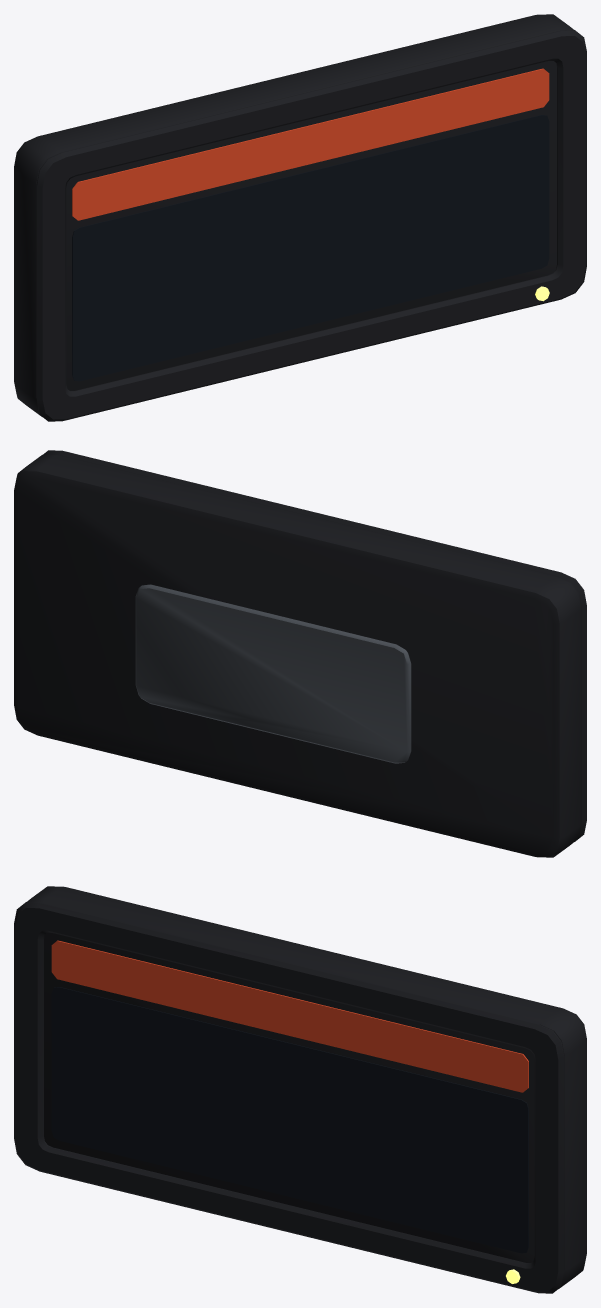
The model's file is Shop_NowServing.fbx.
The picture shows the model from 3 angles, top to bottom: view 1: azimuth 30°, elevation 25°; view 2: azimuth 150°, elevation 25°; view 3: azimuth 330°, elevation 25°; orthographic projection.
Parts seen in each view (by area): view 1: Bezel, Screen, Header; view 2: Bezel, Bracket; view 3: Bezel, Screen, Header.
Boxes of the visible parts, left/top/right/bottom form: Bezel: left=14, top=14, right=586, bottom=421; Screen: left=72, top=115, right=549, bottom=381; Header: left=72, top=68, right=549, bottom=220; Bezel: left=14, top=450, right=586, bottom=857; Bracket: left=135, top=584, right=411, bottom=763; Bezel: left=14, top=886, right=586, bottom=1293; Screen: left=51, top=987, right=528, bottom=1253; Header: left=51, top=940, right=528, bottom=1092.
Bounding box in the file's own units: 300 × 140 × 41.9.
